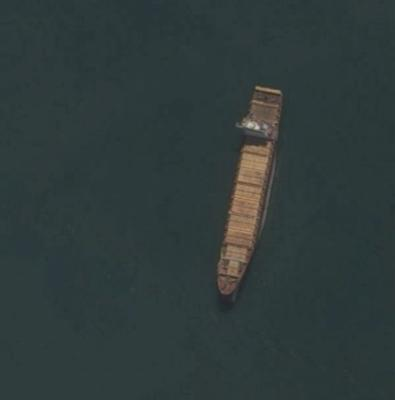Ships: (210, 77, 290, 310)
